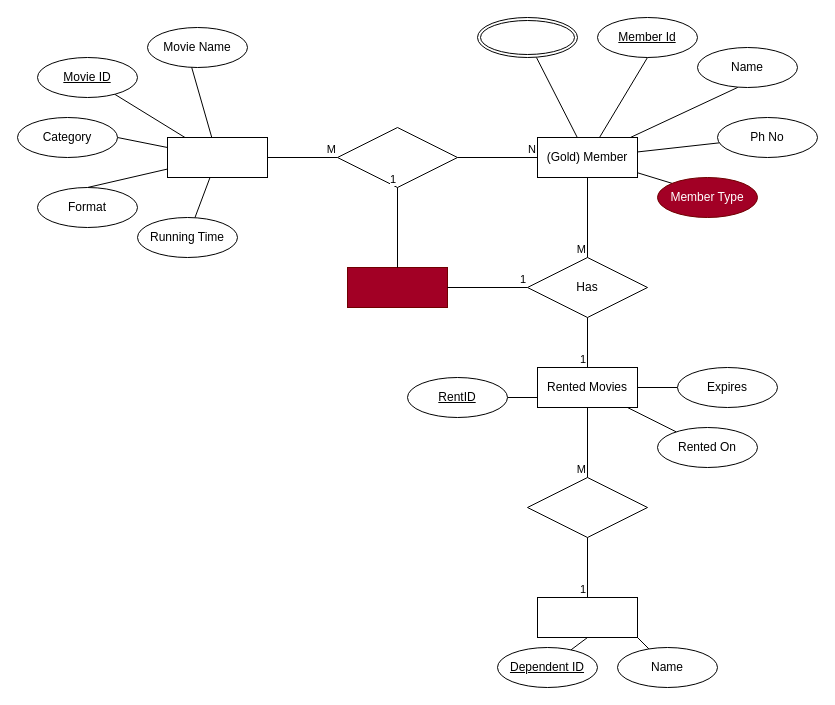
Image size: 835x705. Some labels were removed from this diagram. Here are the shapes that lost their labels. From the top down, the centre of each, then its label:
point (527, 37): Fav Category
point (217, 157): Movie
point (397, 157): Rents
point (397, 287): Bronze Member
point (587, 507): Depends
point (587, 617): Dependent
